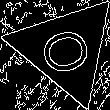O_E: (34, 20, 98, 78)
